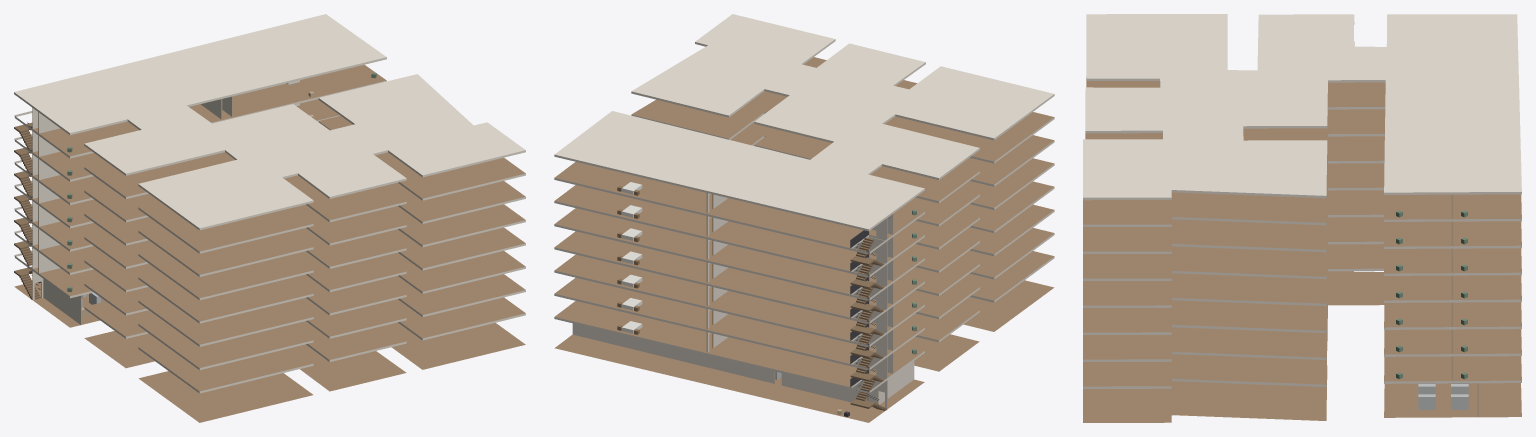
File: interior.glb
The picture shows the model from 3 angles, left to right: view 1: azimuth 30°, elevation 25°; view 2: azimuth 150°, elevation 25°; view 3: azimuth 270°, elevation 25°; orthographic projection. The views are drawn at different scales.
Visible parts, largest first — view 1: slabs, partitions, stair; view 2: slabs, partitions, stair; view 3: slabs, coarse-s0, partitions.
Part boxes in pixels (<box>): slabs: <box>14,14,525,422</box>; partitions: <box>32,96,232,324</box>; stair: <box>14,122,40,299</box>; slabs: <box>554,14,1054,422</box>; partitions: <box>572,193,914,409</box>; stair: <box>850,230,886,410</box>; slabs: <box>1083,14,1521,422</box>; coarse-s0: <box>1418,383,1468,409</box>; partitions: <box>1451,194,1478,416</box>.
Bounding box in the file's own units: 42.44 × 24.27 × 42.83.
